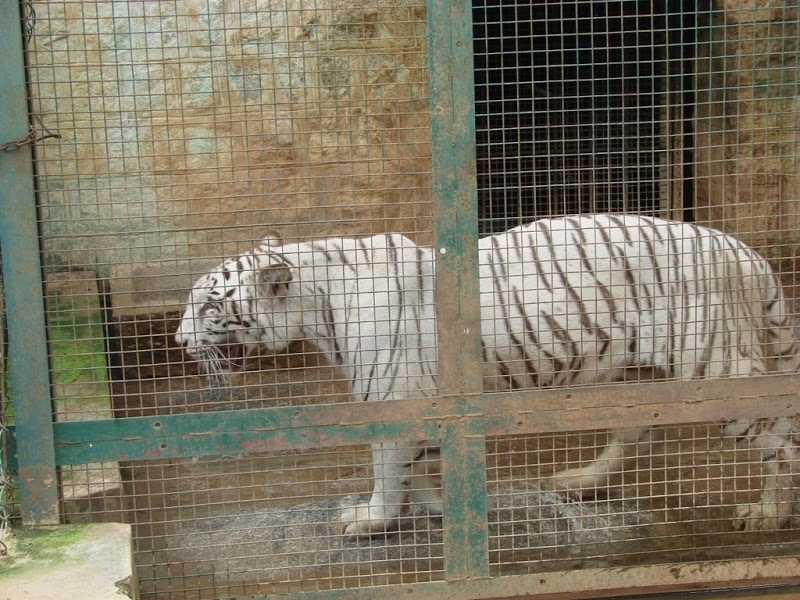tigre: (172, 211, 800, 543)
